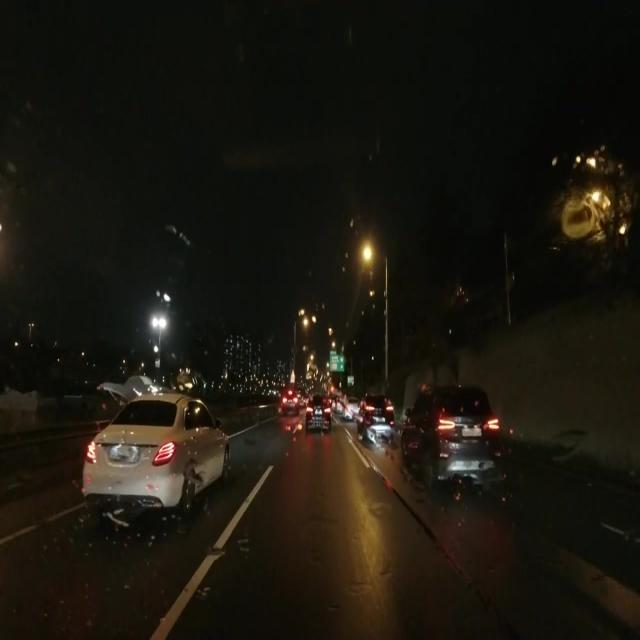Car: (78, 385, 227, 516), (397, 387, 504, 487), (355, 393, 390, 448), (304, 392, 331, 429)
